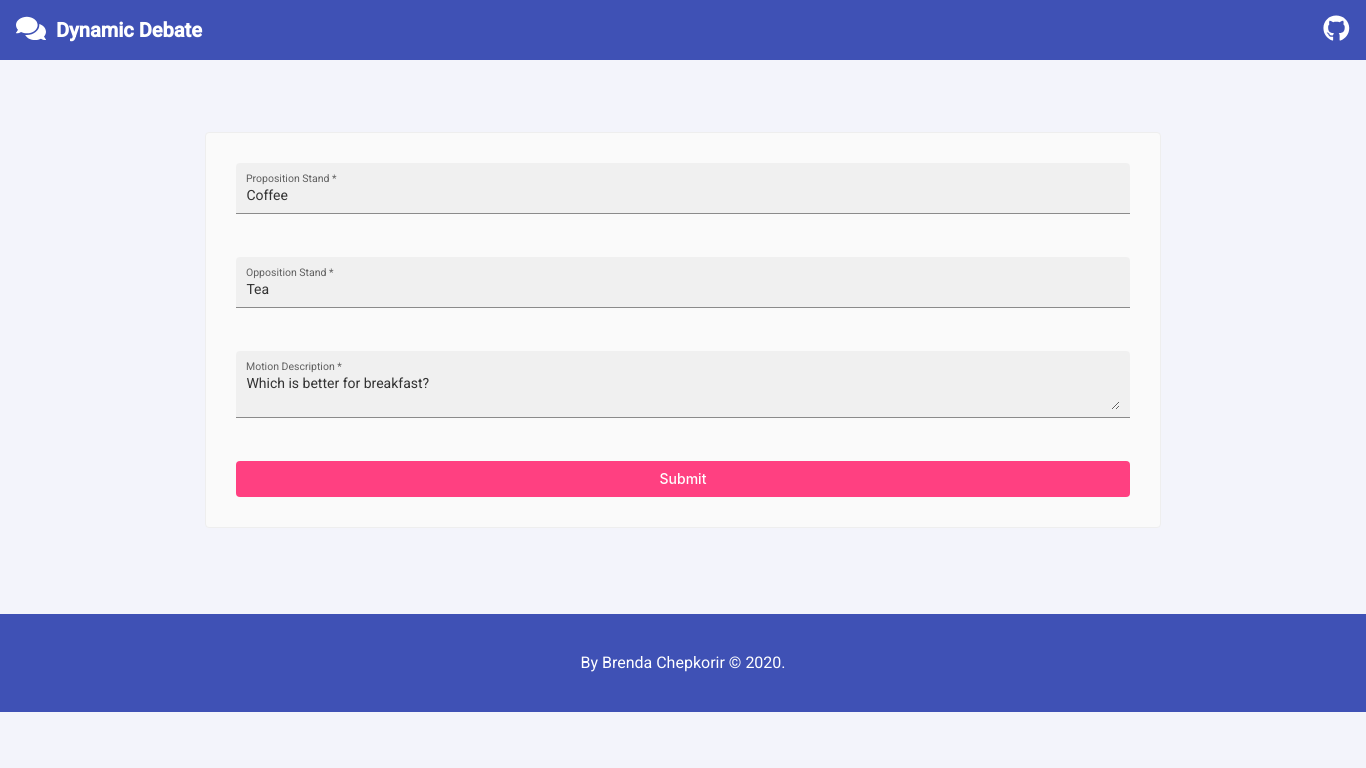
Test: Debate app should › allow a user to add to the proposition tally
Click the button with id "submit": [683, 479] box [236,461,1130,497]
(page scrolled)
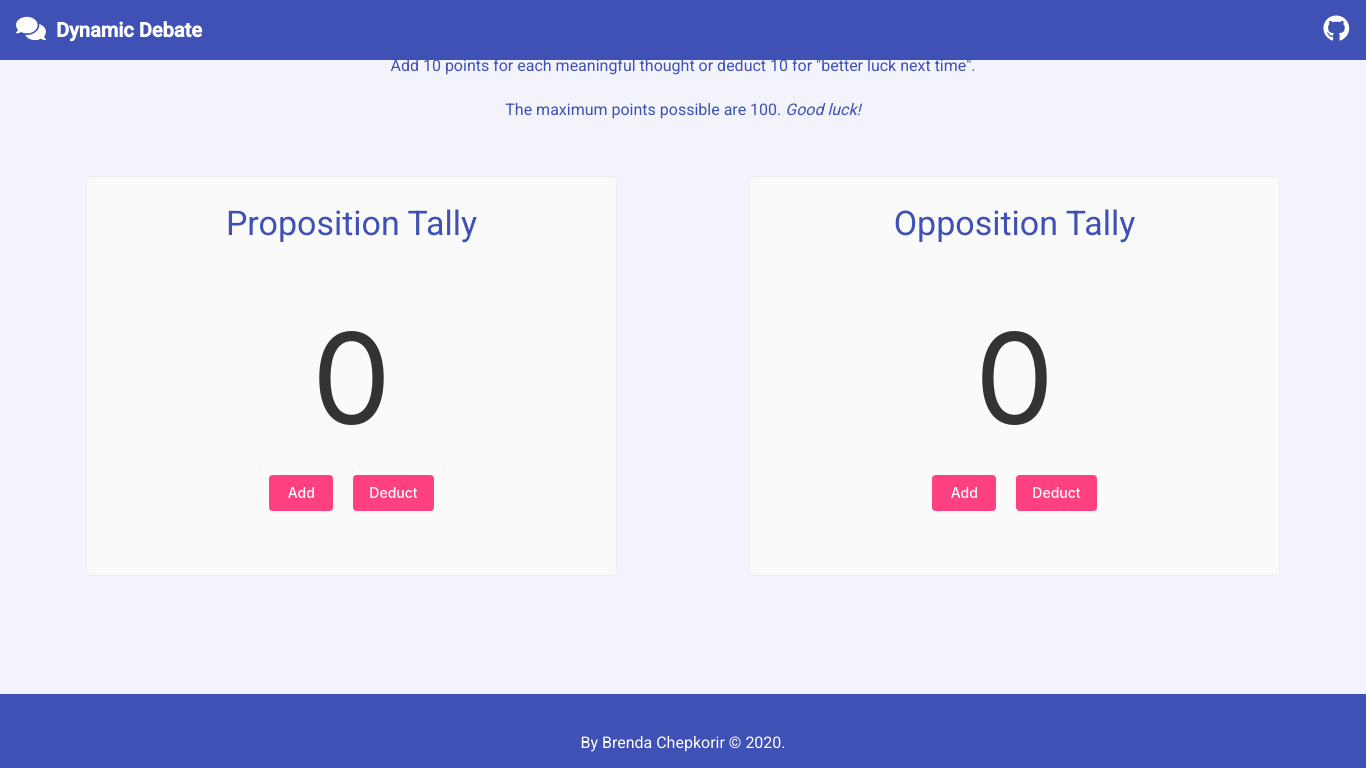
Expected: the heading "Proposition Tally" is shown, [226,203,477,243]
Expected: the button "Add" below "Proposition Tally" is shown
Click the button "Add" below "Proposition Tally": [301, 493] box [269,475,333,511]
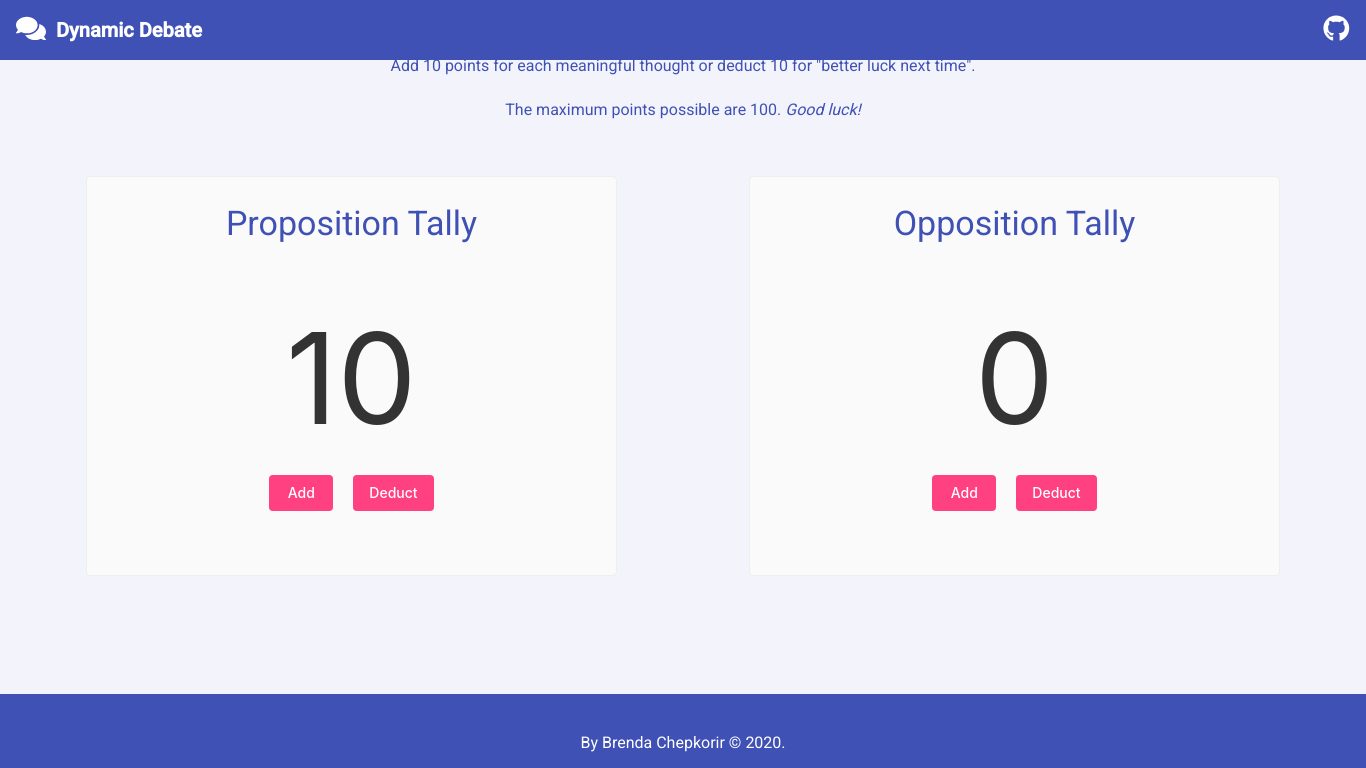
Expected: the text with class "tally" reads "10", [286,302,417,454]
